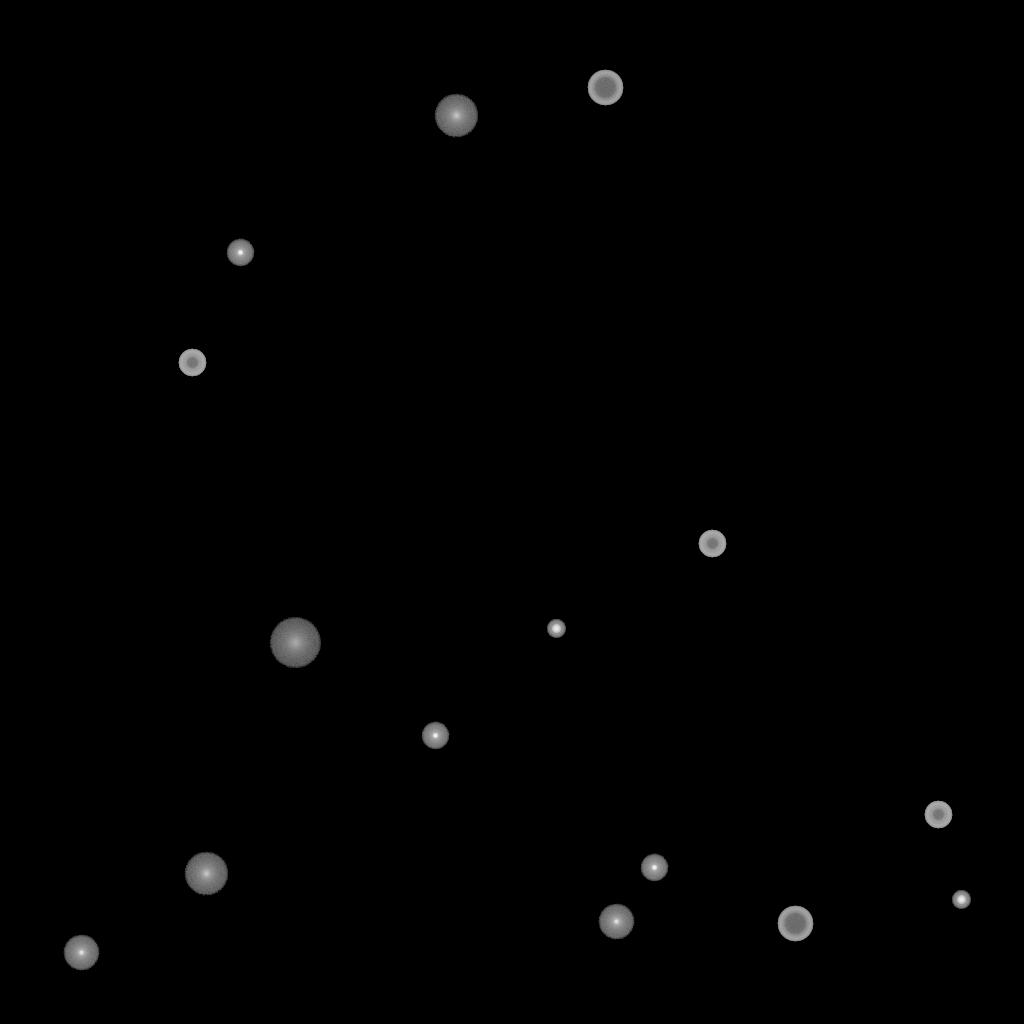depth:-10: (421, 722, 449, 750), (640, 854, 668, 882), (226, 239, 254, 267)
depth:-20: (547, 620, 565, 638), (952, 891, 970, 909)
depth:-50: (924, 801, 952, 829), (698, 530, 726, 558), (178, 349, 206, 377)
depth:-60: (777, 906, 813, 942), (587, 70, 623, 106)
depth:0: (63, 935, 99, 971), (598, 904, 634, 940)
depth:10: (184, 852, 228, 896), (434, 94, 478, 138)
depth:20: (269, 618, 321, 668)
